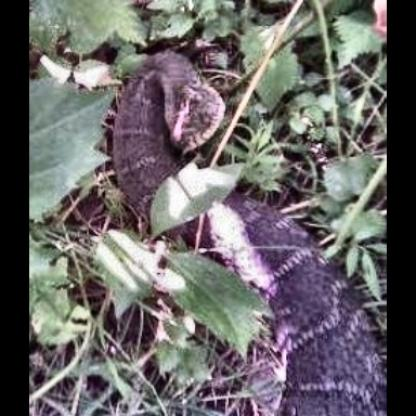Snake: (80, 8, 339, 416)
